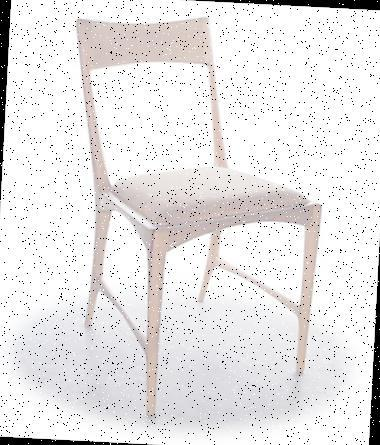Silla: (54, 10, 335, 431)
